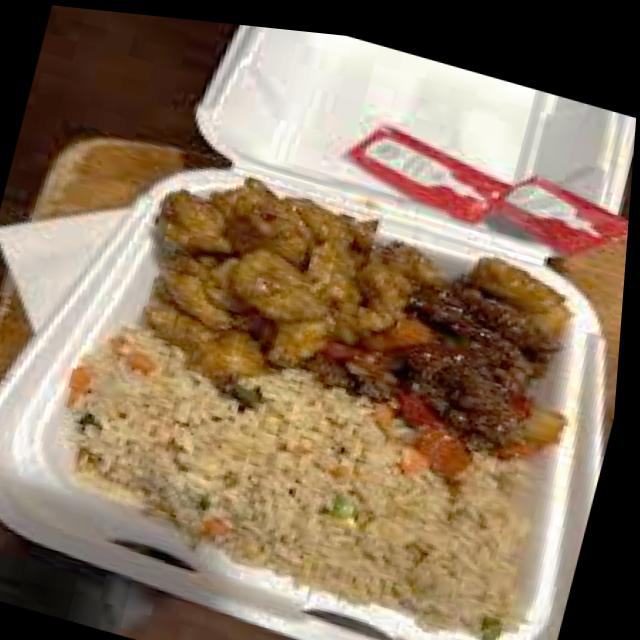Beijing Beef: (383, 233, 578, 457)
Fried Rice: (38, 325, 544, 630)
Kung Pao Chicken: (114, 162, 433, 412)
